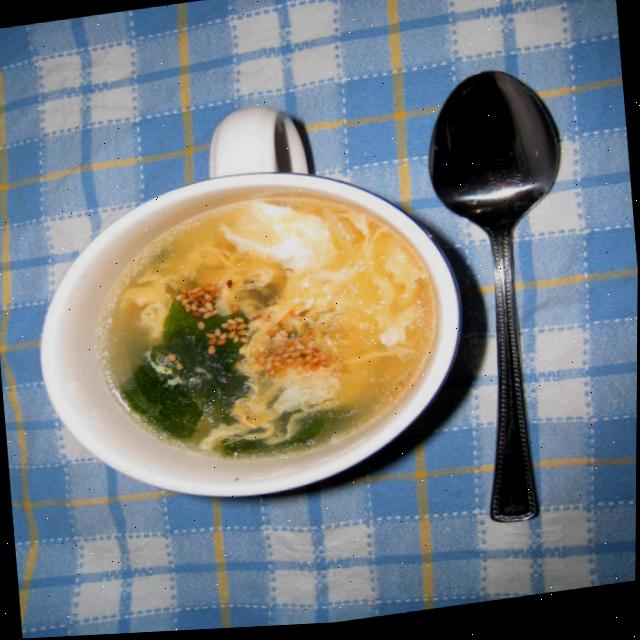汤锅炖物: (4, 64, 324, 414)
